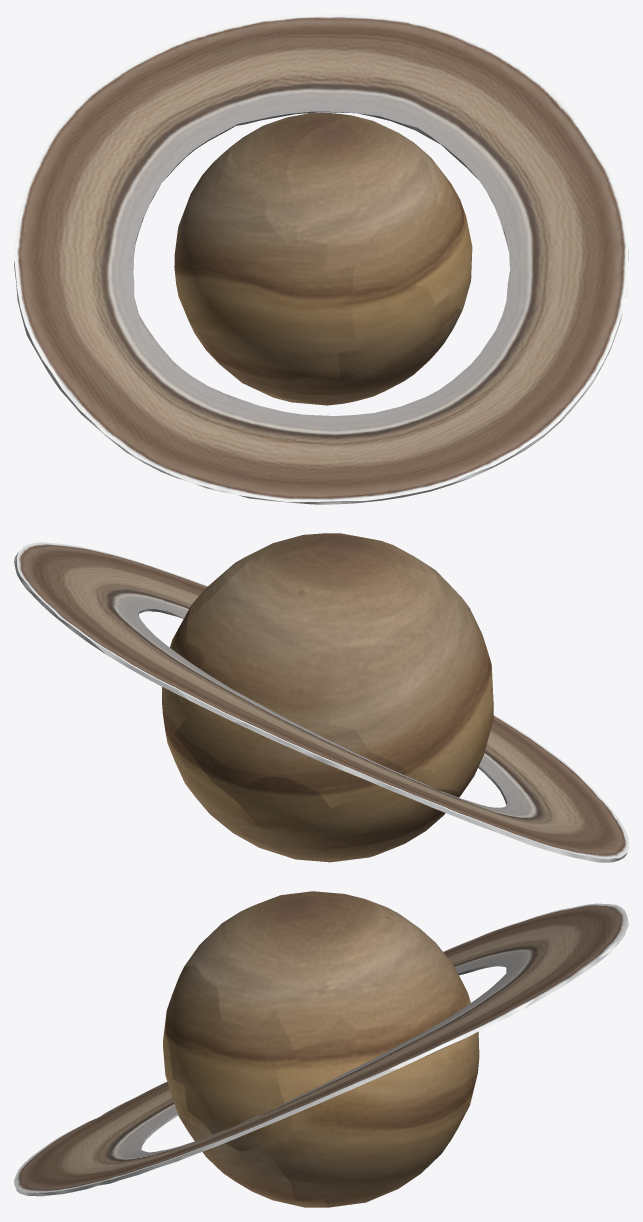
3 renders of one model, top to bottom at view 1: azimuth 30°, elevation 25°; view 2: azimuth 150°, elevation 25°; view 3: azimuth 270°, elevation 25°, orthographic. The views are drawn at different scales.
Parts seen in each view (by area): view 1: world; view 2: world; view 3: world.
Part boxes in pixels (left/top/right/bottom): world: left=14, top=14, right=628, bottom=504; world: left=14, top=533, right=628, bottom=862; world: left=14, top=891, right=628, bottom=1207.
Size of the model in its own units: 2.74e+08 by 1.38e+08 by 2.68e+08.
Materials: 1 (1 with a texture image).
